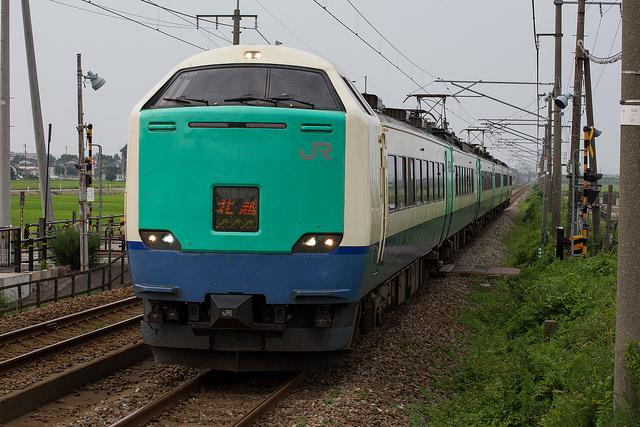Train: (122, 45, 533, 379)
